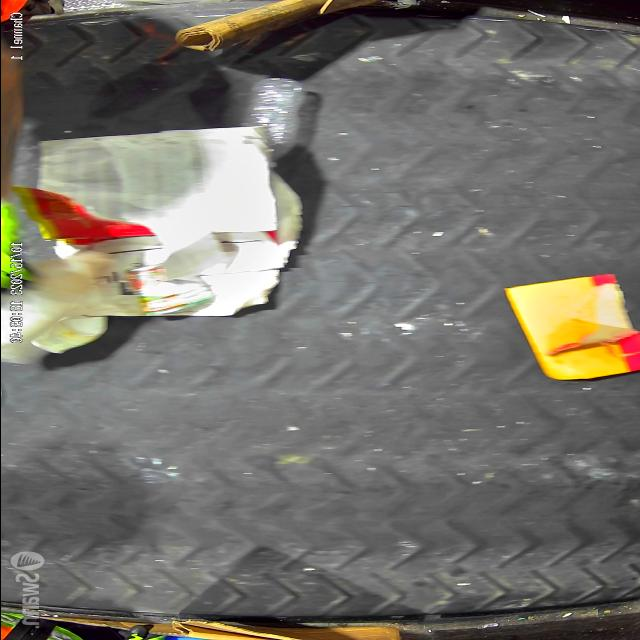plastic_bottle: (248, 80, 302, 168)
